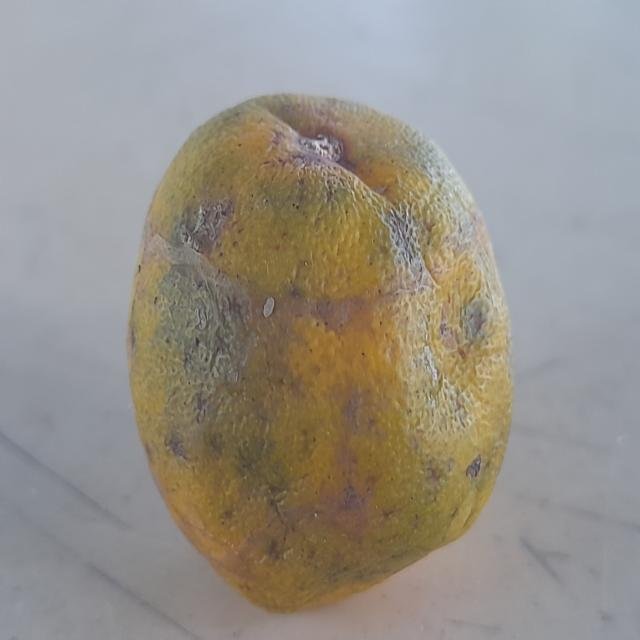black spot: (112, 79, 528, 612)
